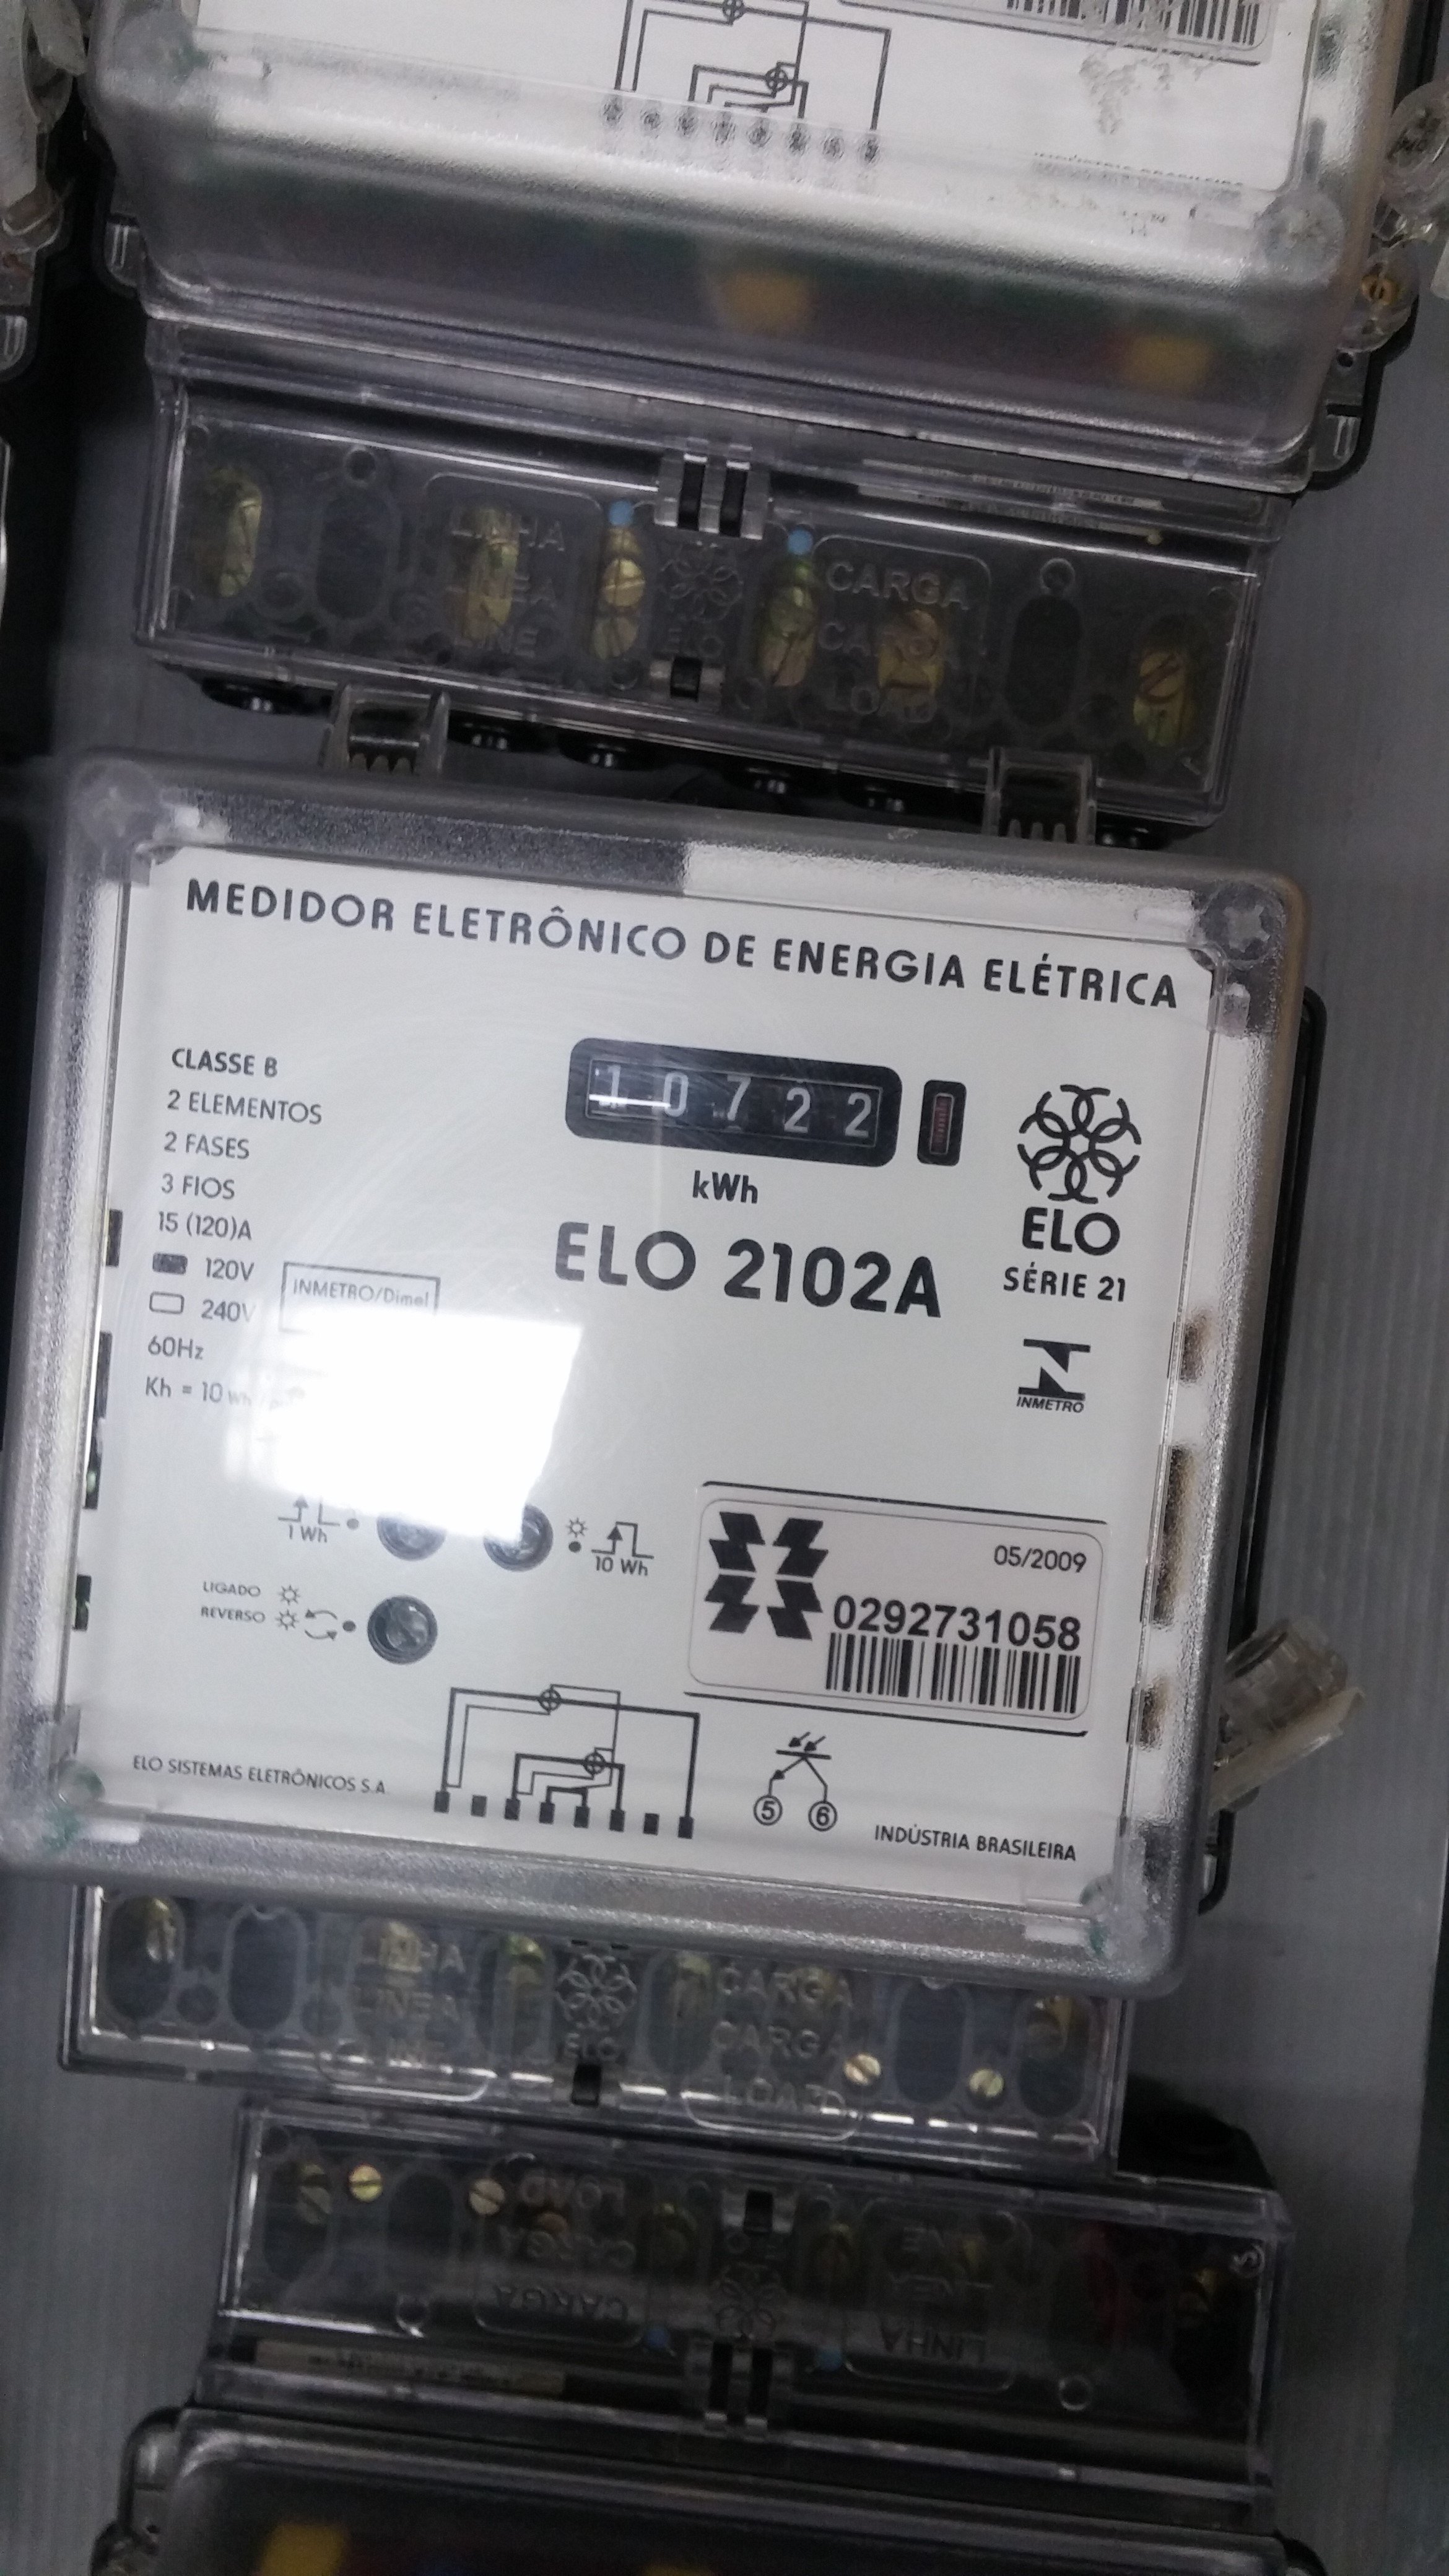counter2: (559, 1023, 916, 1166)
